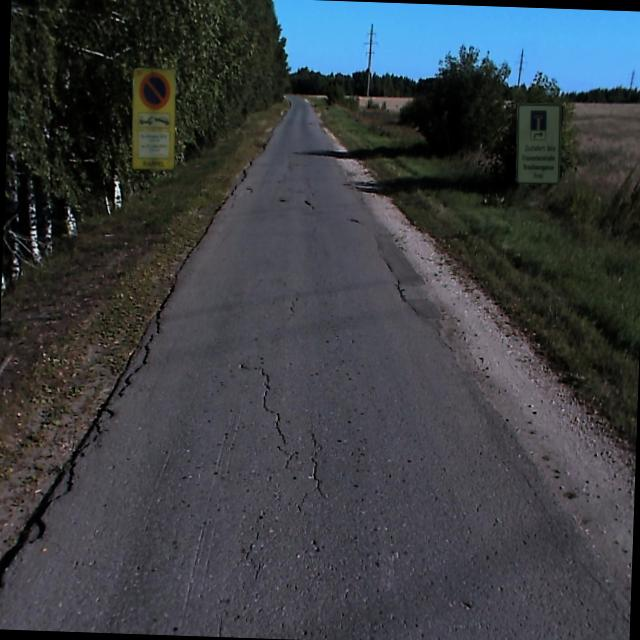road: (0, 97, 630, 640)
